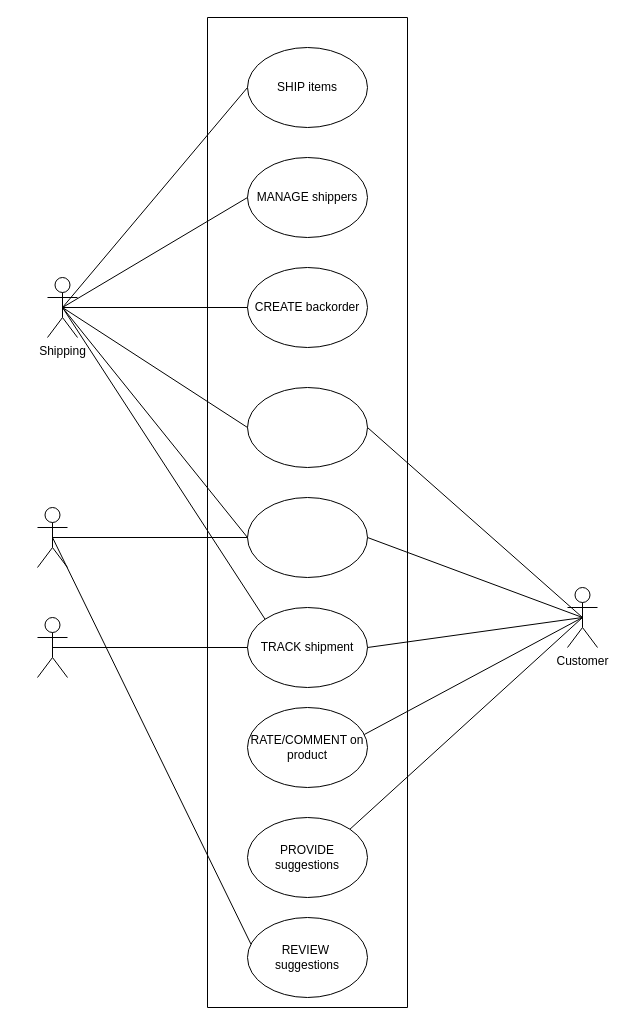
The diagram is 626 pixels wide and 1025 high, and some of its shapes have lost their labels. The centre of each missing label's shape, as x and y in pixels:
"CREATE item return" goes at (x=307, y=427).
"LOOK UP order status" goes at (x=307, y=537).
"Management" goes at (x=52, y=537).
"Marketing" goes at (x=52, y=647).
